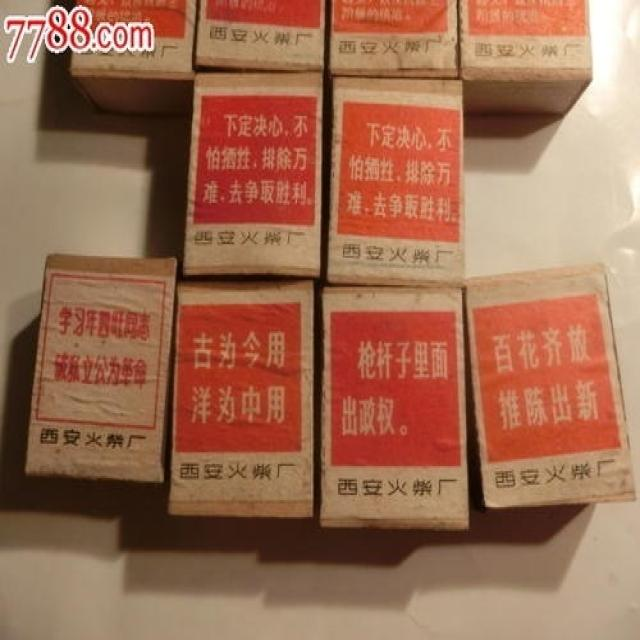box: (467, 268, 634, 507), (319, 287, 468, 529), (23, 253, 177, 483), (166, 282, 315, 517), (182, 72, 323, 278), (326, 79, 463, 288), (458, 2, 593, 143), (72, 3, 198, 118), (330, 2, 460, 80), (193, 0, 324, 75)
